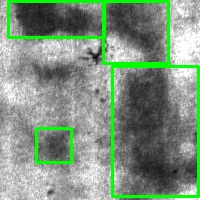patches: (112, 66, 198, 196), (103, 1, 168, 63), (8, 1, 104, 37), (36, 128, 71, 162)
